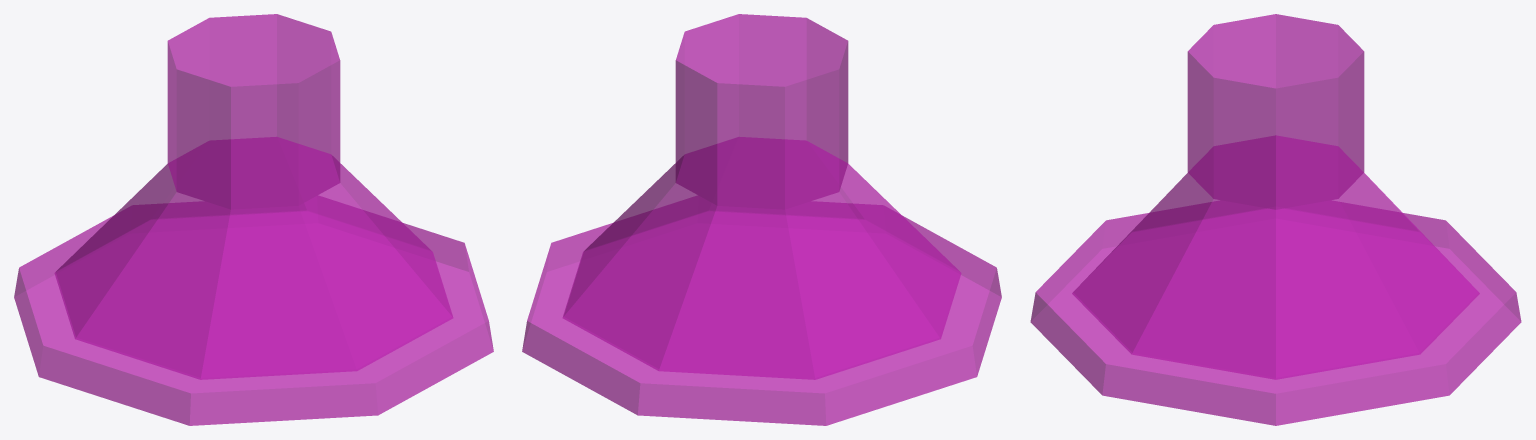
The model's file is SM_Veh_Capstan_01_Collision.fbx.
3 renders of one model, left to right at view 1: azimuth 30°, elevation 25°; view 2: azimuth 150°, elevation 25°; view 3: azimuth 270°, elevation 25°, orthographic.
Visible parts, largest first — view 1: SM_Veh_Capstan_01_Collision; view 2: SM_Veh_Capstan_01_Collision; view 3: SM_Veh_Capstan_01_Collision.
Part boxes in pixels (x1,y1,x2,y2): SM_Veh_Capstan_01_Collision: [14, 14, 493, 425]; SM_Veh_Capstan_01_Collision: [522, 14, 1001, 425]; SM_Veh_Capstan_01_Collision: [1030, 14, 1521, 425].
Size of the model in its own units: 150 by 91.55 by 150.
